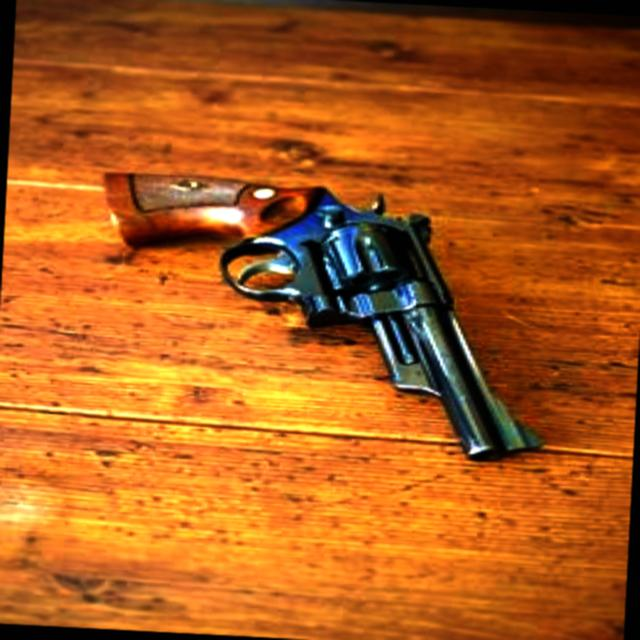revolver: (41, 95, 552, 540)
